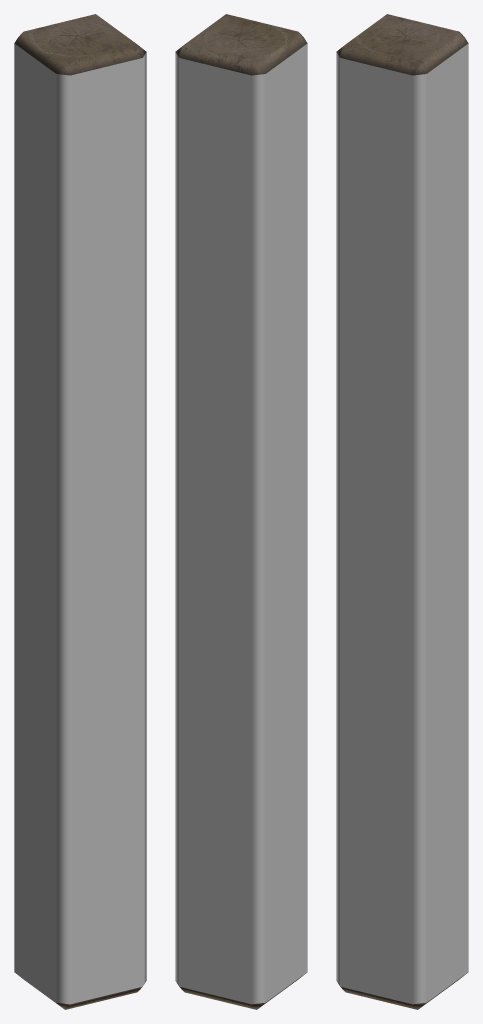
File: SM_Column_b_30x30X300_01.fbx
3 views of the same model, side by side, from view 1: azimuth 30°, elevation 25°; view 2: azimuth 150°, elevation 25°; view 3: azimuth 330°, elevation 25° (orthographic).
Parts seen in each view (by area): view 1: SM_Column_b_30x30X300_01_LOD0; view 2: SM_Column_b_30x30X300_01_LOD0; view 3: SM_Column_b_30x30X300_01_LOD0.
Boxes of the visible parts, bbox=[...] form: SM_Column_b_30x30X300_01_LOD0: bbox=[14, 14, 146, 1009]; SM_Column_b_30x30X300_01_LOD0: bbox=[175, 14, 307, 1009]; SM_Column_b_30x30X300_01_LOD0: bbox=[336, 14, 468, 1009].
Bounding box in the file's own units: 30 × 30 × 300.
